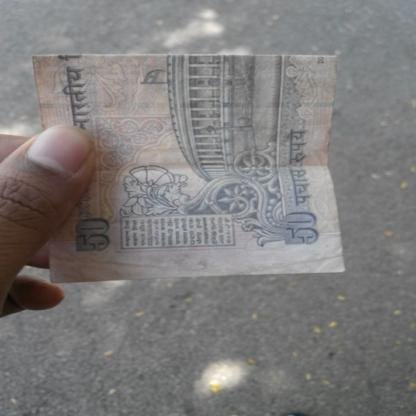Old50Back: (33, 53, 345, 283)
